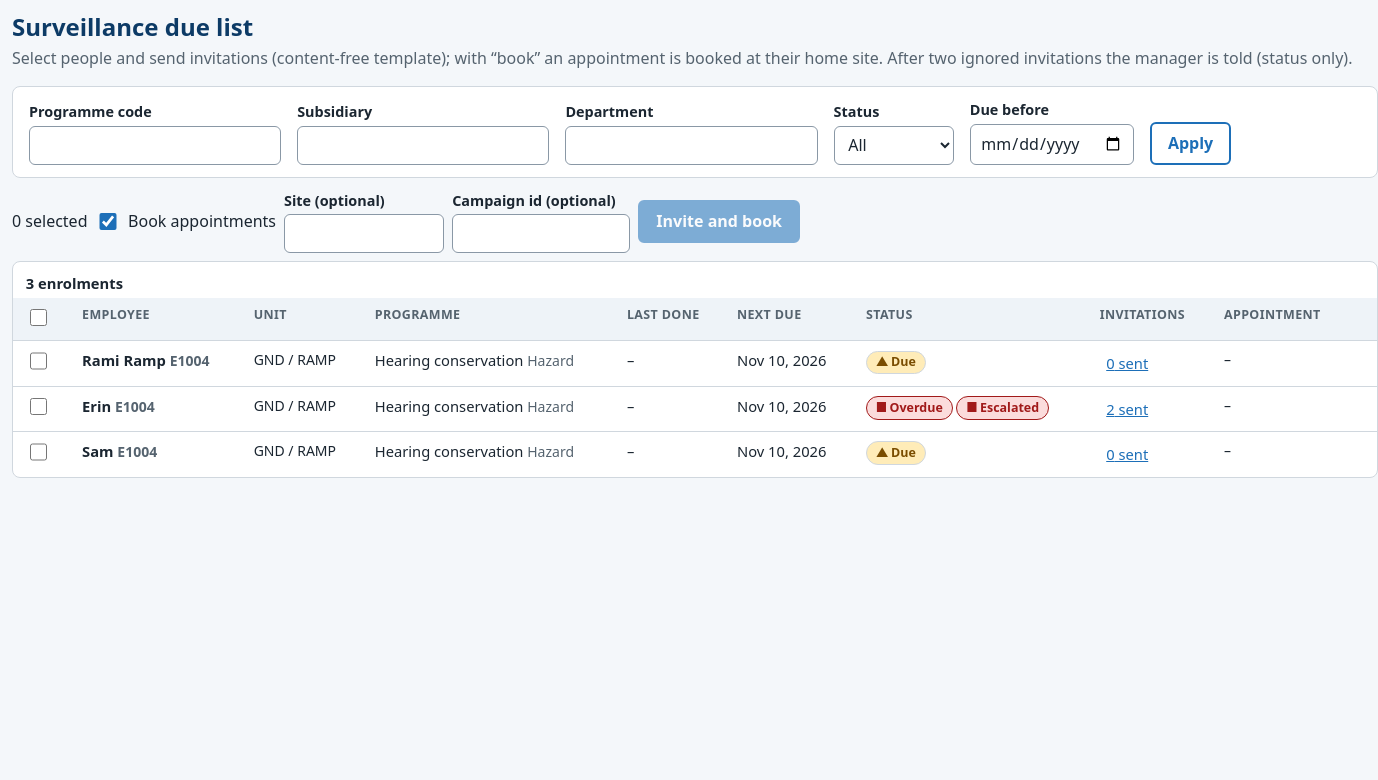
it: SurveillanceDue › multi-selects and bulk invites + books; shows the invitation log
The image size is (1378, 780).
Step 1. Click the checkbox named "Select Rami Ramp – Hearing conservation" → (39, 361), box [30,352,47,370]
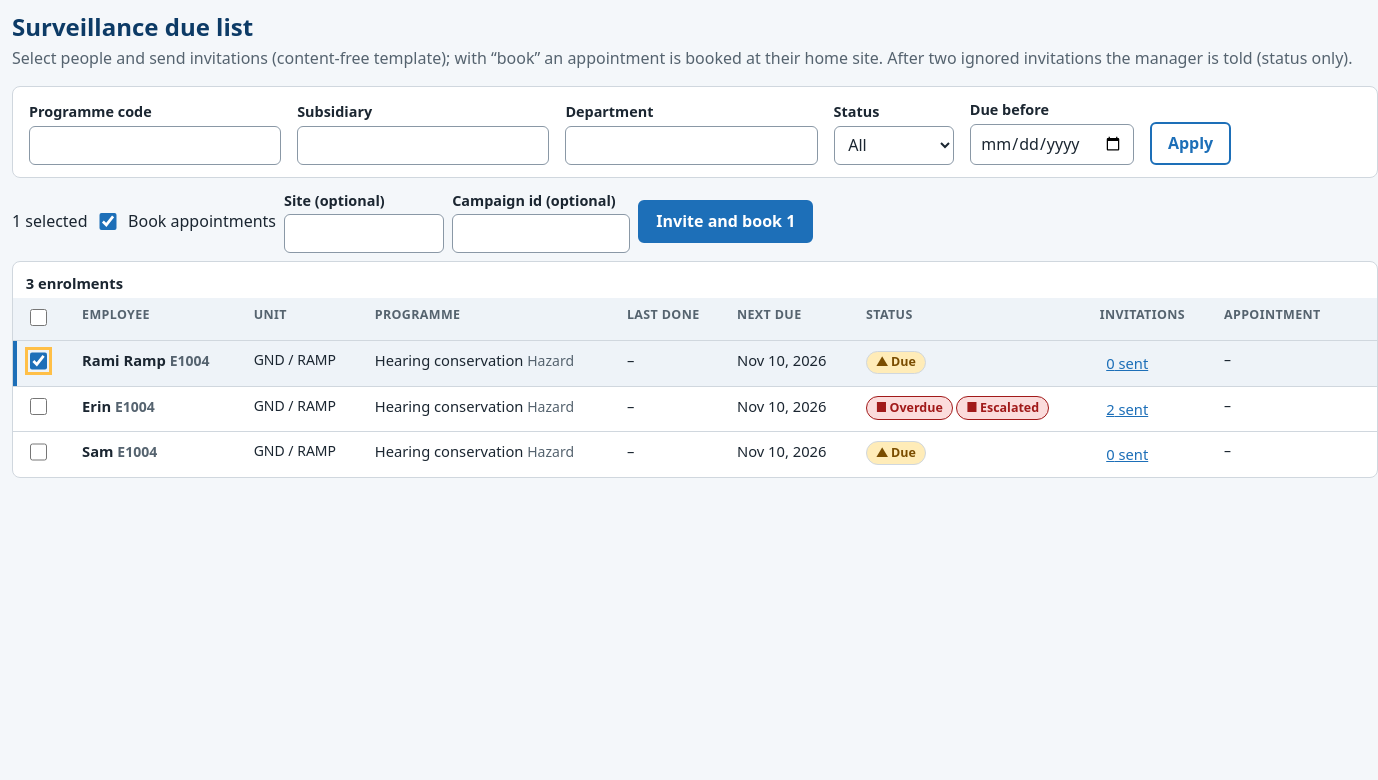
Step 2. Click the checkbox named "Select Erin – Hearing conservation" → (39, 406), box [30,398,47,415]
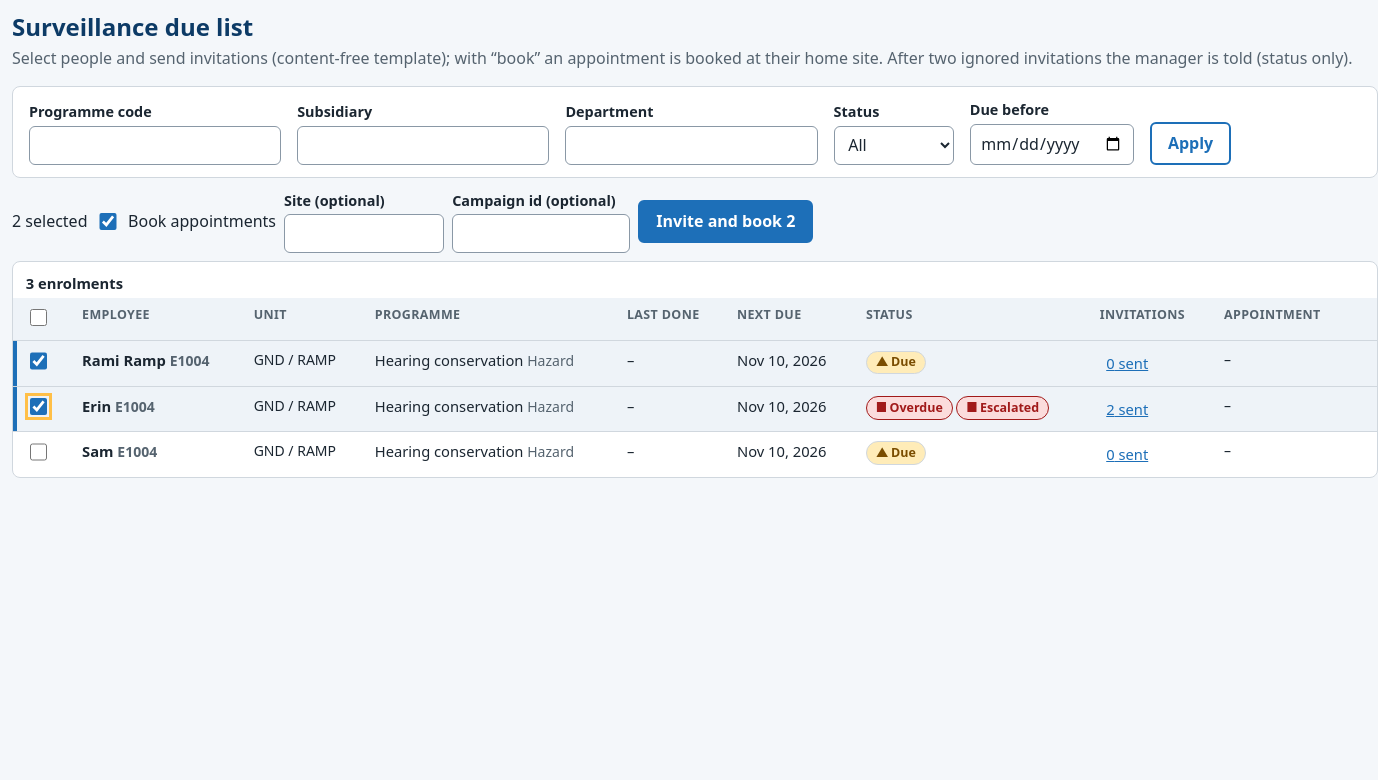
expect the text "Escalated" is shown: met, box [980,399,1039,416]
expect the text "2 selected" is shown: met, box [12,209,88,233]
Step 3. Type "lhr-airside" into the field labelled "Site (optional)" → (364, 234), box [284,214,444,253]
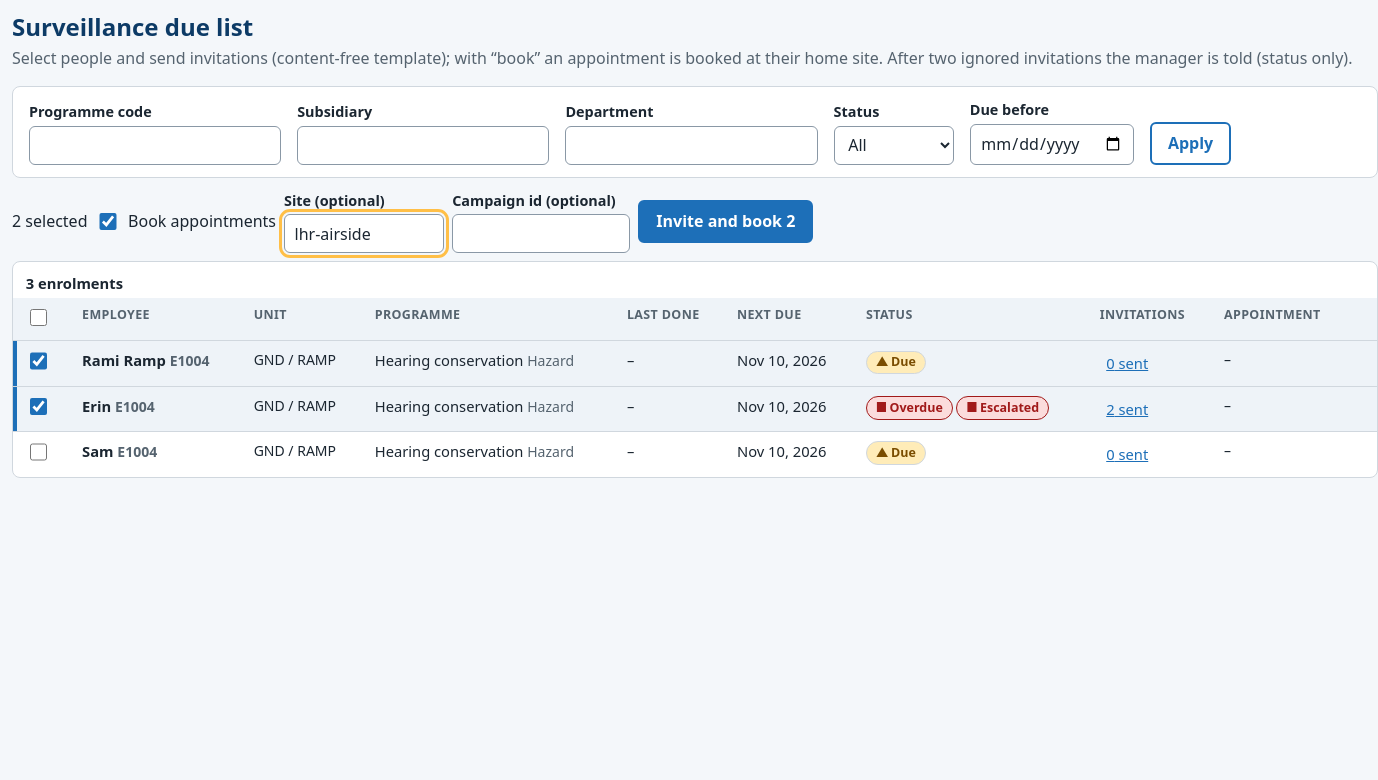
Step 4. Click the button "Invite and book 2" → (726, 221), box [638,200,813,243]
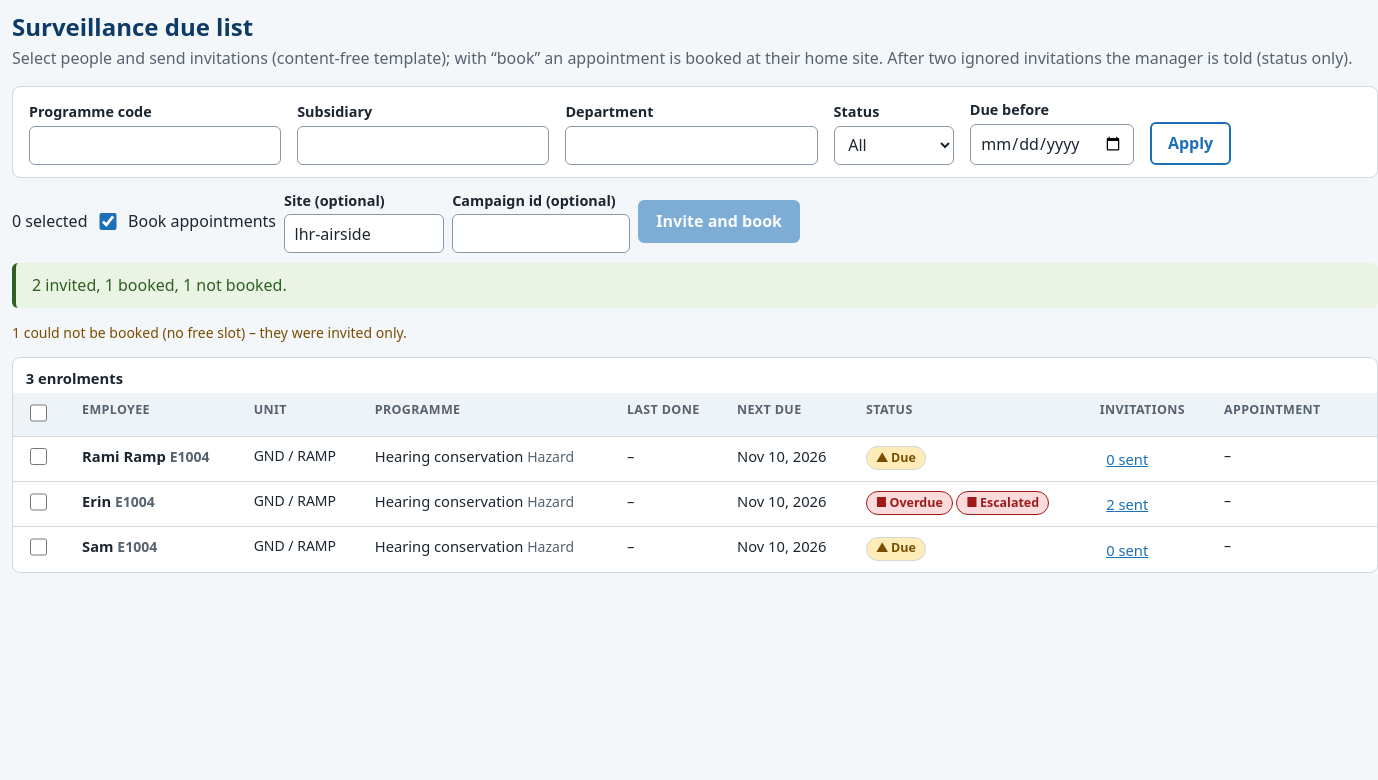
expect the text "2 invited, 1 booked, 1 not booked." is shown: met, box [12,263,1377,308]
expect the text "0 selected" is shown: met, box [12,209,88,233]
Step 5. Click the button "2 sent" → (1127, 504), box [1100,490,1155,518]
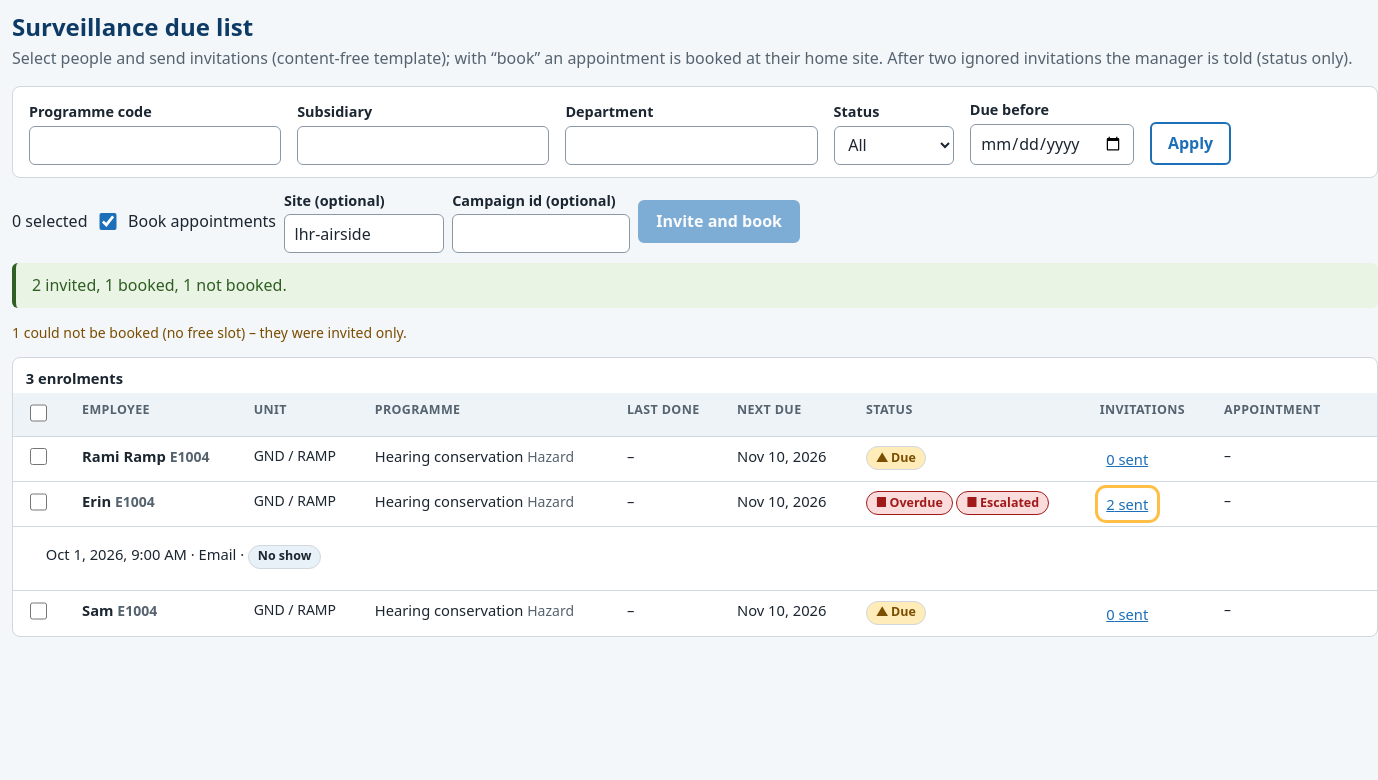
expect the list named "Invitation log" is shown: met, box [46,544,321,569]
